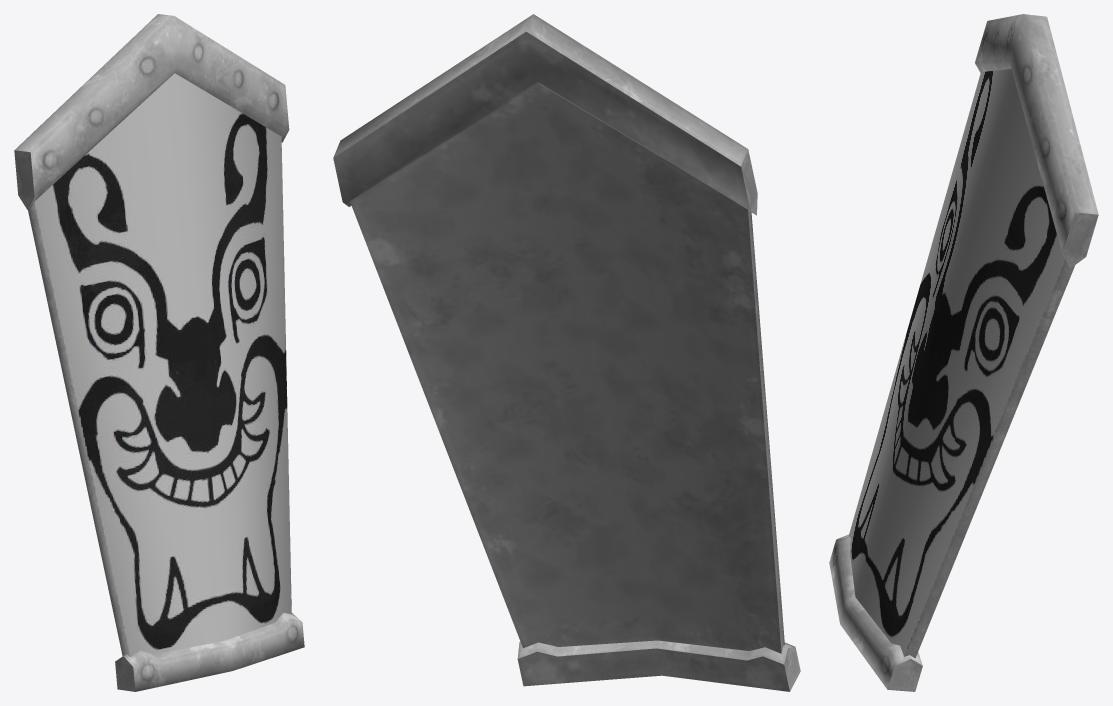
Rendered from shield-base.glb.
3 renders of one model, left to right at view 1: azimuth 30°, elevation 25°; view 2: azimuth 150°, elevation 25°; view 3: azimuth 270°, elevation 25°, orthographic. The views are drawn at different scales.
Size of the model in its own units: 0.5833 by 1.12 by 0.4213.
Materials: 1 (1 with a texture image).
